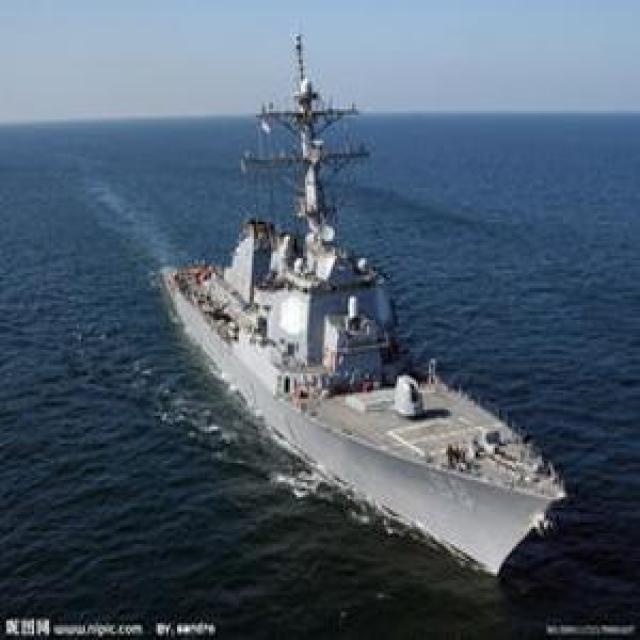navalvessels: (135, 63, 583, 574)
